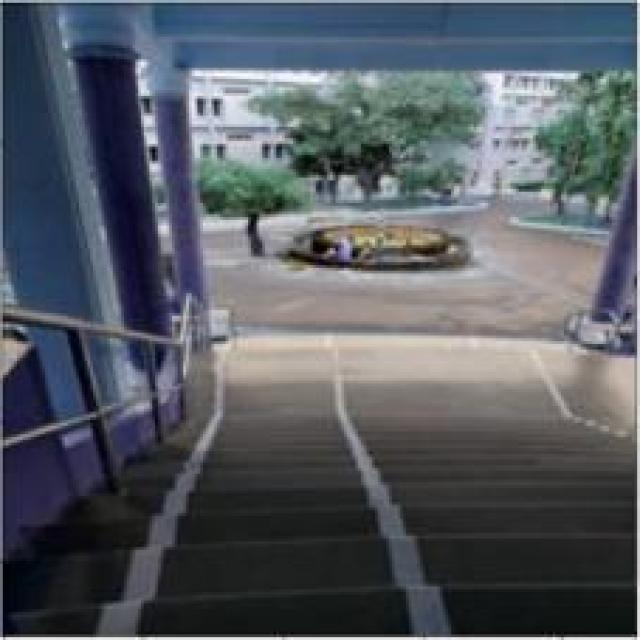downstair: (193, 410, 528, 568)
